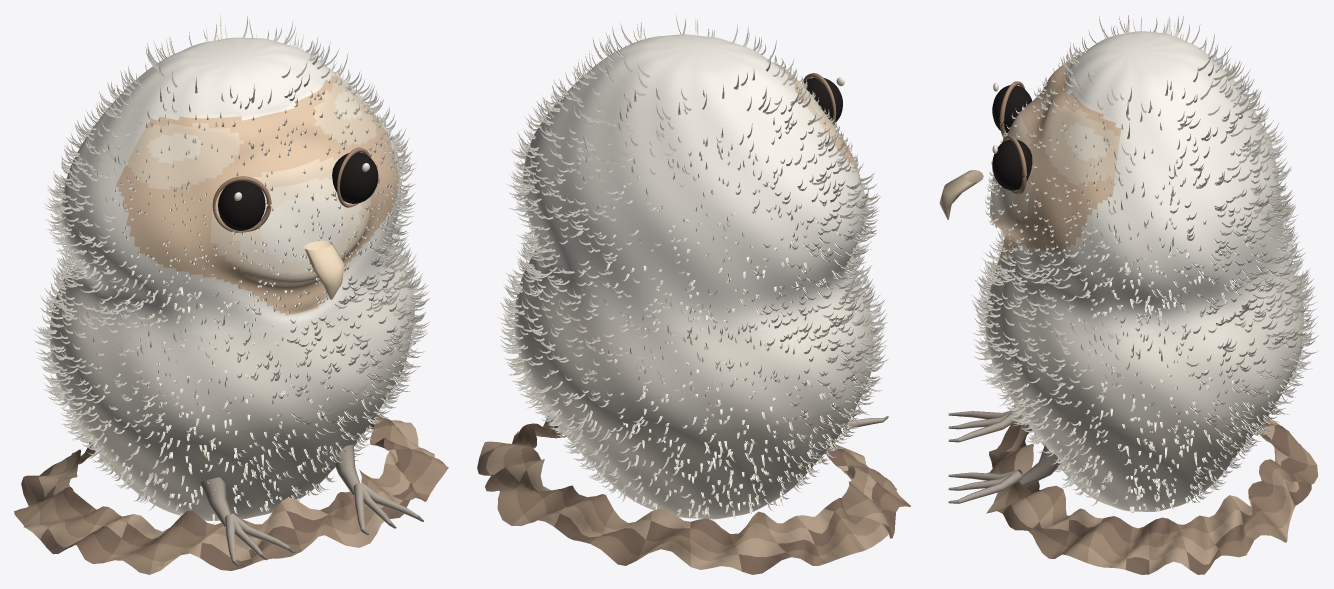
The model's file is run121_native_continuous_juvenile_organic_sculpt_ART_UNAPPROVED.glb.
3 views of the same model, side by side, from view 1: azimuth 30°, elevation 25°; view 2: azimuth 150°, elevation 25°; view 3: azimuth 270°, elevation 25° (orthographic). The views are drawn at different scales.
Parts seen in each view (by area): view 1: ONE CONTINUOUS sculpted downy juvenile Tyto body and heart m, fine true 3D soft curved mesoptile crossfibers, aged eucalypt tree hollow load bearing lip, deep inset expressive glossy eye -1, deep inset expressive glossy eye 1, small naturally curved horn beak, supported tarsus -1, natural upper and lower eyelid -1, supported tarsus 1; view 2: ONE CONTINUOUS sculpted downy juvenile Tyto body and heart m, fine true 3D soft curved mesoptile crossfibers, aged eucalypt tree hollow load bearing lip, deep inset expressive glossy eye -1; view 3: ONE CONTINUOUS sculpted downy juvenile Tyto body and heart m, fine true 3D soft curved mesoptile crossfibers, aged eucalypt tree hollow load bearing lip, deep inset expressive glossy eye 1, deep inset expressive glossy eye -1, small naturally curved horn beak, supported tarsus 1, short supported toe 1-1, short supported toe -1-1.
Boxes of the visible parts, x1=… form: ONE CONTINUOUS sculpted downy juvenile Tyto body and heart m: x1=50, y1=37, x2=414, y2=520; fine true 3D soft curved mesoptile crossfibers: x1=33, y1=14, x2=429, y2=524; aged eucalypt tree hollow load bearing lip: x1=14, y1=414, x2=448, y2=574; deep inset expressive glossy eye -1: x1=218, y1=181, x2=265, y2=230; deep inset expressive glossy eye 1: x1=332, y1=152, x2=378, y2=203; small naturally curved horn beak: x1=304, y1=240, x2=344, y2=299; supported tarsus -1: x1=200, y1=477, x2=230, y2=528; natural upper and lower eyelid -1: x1=212, y1=176, x2=271, y2=232; supported tarsus 1: x1=333, y1=444, x2=359, y2=496; ONE CONTINUOUS sculpted downy juvenile Tyto body and heart m: x1=515, y1=34, x2=872, y2=519; fine true 3D soft curved mesoptile crossfibers: x1=497, y1=14, x2=888, y2=519; aged eucalypt tree hollow load bearing lip: x1=477, y1=416, x2=910, y2=574; deep inset expressive glossy eye -1: x1=804, y1=77, x2=842, y2=121; ONE CONTINUOUS sculpted downy juvenile Tyto body and heart m: x1=985, y1=31, x2=1303, y2=511; fine true 3D soft curved mesoptile crossfibers: x1=972, y1=15, x2=1318, y2=512; aged eucalypt tree hollow load bearing lip: x1=986, y1=419, x2=1317, y2=574; deep inset expressive glossy eye 1: x1=992, y1=139, x2=1032, y2=190; deep inset expressive glossy eye -1: x1=992, y1=85, x2=1031, y2=132; small naturally curved horn beak: x1=939, y1=170, x2=983, y2=219; supported tarsus 1: x1=1020, y1=445, x2=1060, y2=486; short supported toe 1-1: x1=958, y1=470, x2=1022, y2=503; short supported toe -1-1: x1=958, y1=410, x2=1022, y2=442.
Bounding box in the file's own units: 1.96 × 2.19 × 1.67.
